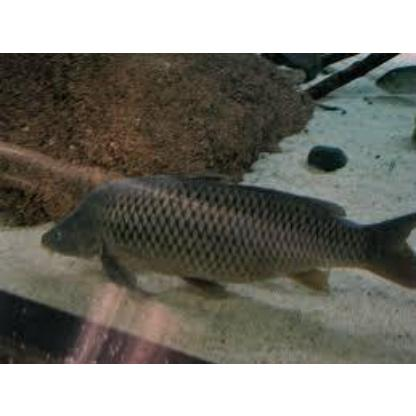ikan-mas: (38, 171, 416, 297)
